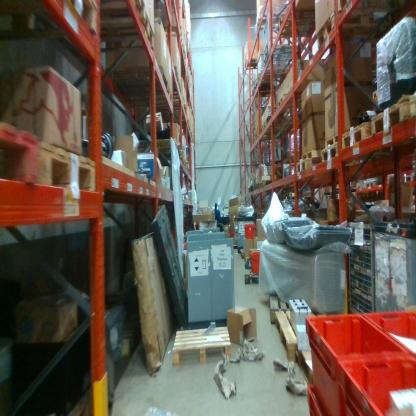pallet: (44, 3, 158, 49), (1, 0, 114, 44), (311, 10, 405, 59), (39, 133, 102, 203), (2, 116, 50, 203), (122, 132, 192, 176), (171, 319, 232, 363), (276, 308, 317, 373), (369, 88, 410, 143), (336, 3, 406, 27), (340, 114, 377, 159), (275, 8, 315, 39), (270, 287, 298, 317), (258, 113, 294, 135), (277, 91, 308, 116), (253, 9, 283, 33), (241, 258, 271, 281), (319, 140, 344, 167), (258, 65, 290, 85), (293, 156, 319, 180), (249, 85, 282, 103), (320, 127, 345, 148), (285, 188, 317, 202), (300, 142, 323, 159), (364, 174, 381, 195), (242, 57, 265, 72), (257, 171, 284, 183), (318, 188, 334, 208), (408, 85, 416, 123), (228, 238, 243, 257), (240, 244, 253, 261), (261, 180, 283, 188), (335, 190, 347, 204), (406, 169, 414, 185)
small_load_carrier: (303, 304, 412, 411), (344, 353, 415, 414), (364, 298, 415, 364), (305, 381, 333, 414), (249, 249, 268, 276), (246, 221, 258, 241)
stillage: (342, 213, 393, 326)
